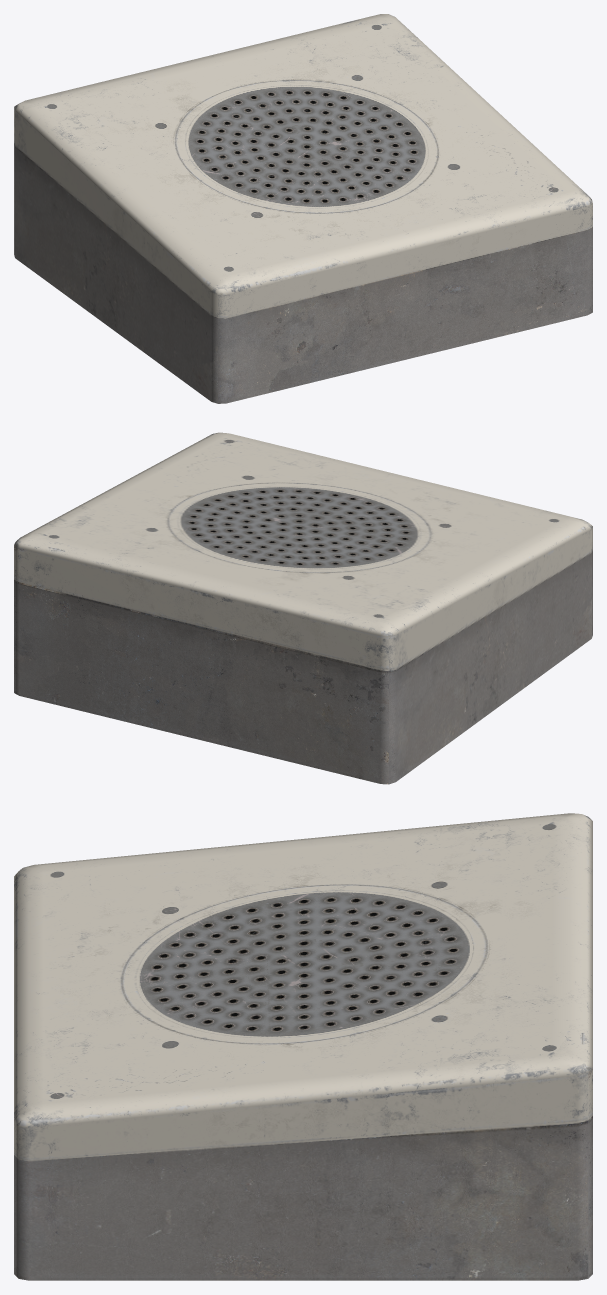
The model's file is SM_Intercom_01a.fbx.
The picture shows the model from 3 angles, top to bottom: view 1: azimuth 30°, elevation 25°; view 2: azimuth 150°, elevation 25°; view 3: azimuth 270°, elevation 25°; orthographic projection. The views are drawn at different scales.
Parts seen in each view (by area): view 1: SM_Intercom_01a_LOD0; view 2: SM_Intercom_01a_LOD0; view 3: SM_Intercom_01a_LOD0.
Boxes of the visible parts, left/top/right/bottom form: SM_Intercom_01a_LOD0: left=14, top=14, right=592, bottom=403; SM_Intercom_01a_LOD0: left=14, top=432, right=592, bottom=784; SM_Intercom_01a_LOD0: left=14, top=813, right=592, bottom=1280.
Bounding box in the file's own units: 26.46 × 24.96 × 10.21.
1 material, 1 textured.
